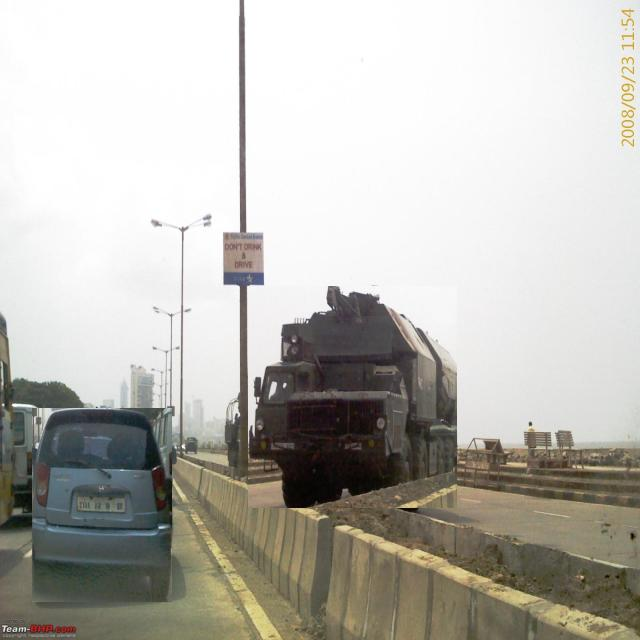car: (32, 408, 172, 602)
truck: (249, 287, 457, 508)
